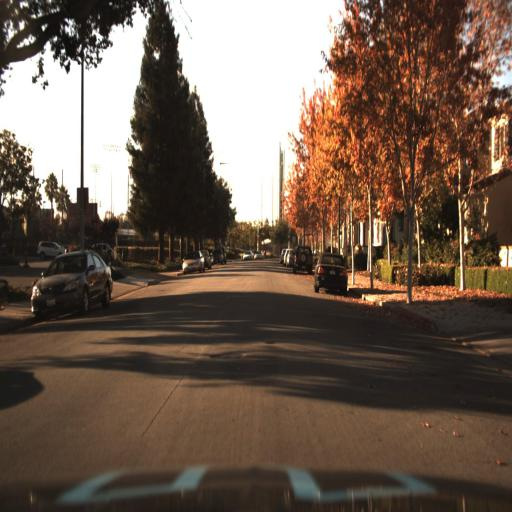car: (26, 241, 118, 326), (307, 241, 352, 299), (37, 236, 69, 264), (291, 241, 314, 274), (181, 247, 205, 273), (202, 241, 216, 271), (210, 245, 224, 265)
